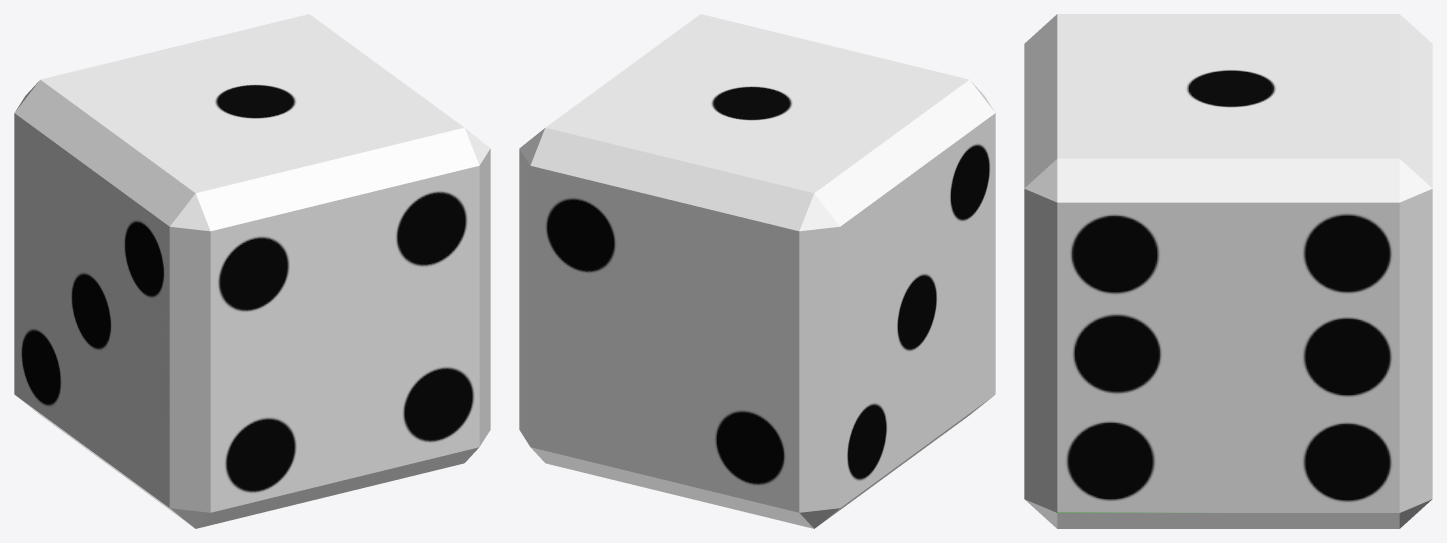
Rendered from Dice.obj.
3 renders of one model, left to right at view 1: azimuth 30°, elevation 25°; view 2: azimuth 150°, elevation 25°; view 3: azimuth 270°, elevation 25°, orthographic. The views are drawn at different scales.
Visible parts, largest first — view 1: Cube; view 2: Cube; view 3: Cube.
Part boxes in pixels (box(x1,y1,x2,y2)): Cube: box(14, 14, 490, 528); Cube: box(519, 14, 995, 528); Cube: box(1024, 14, 1432, 528).
Bounding box in the file's own units: 2 × 2 × 2.
Materials: 1 (1 with a texture image).
